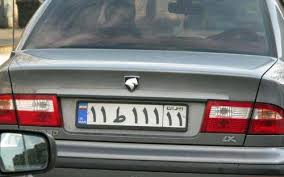car: (74, 98, 189, 131)
